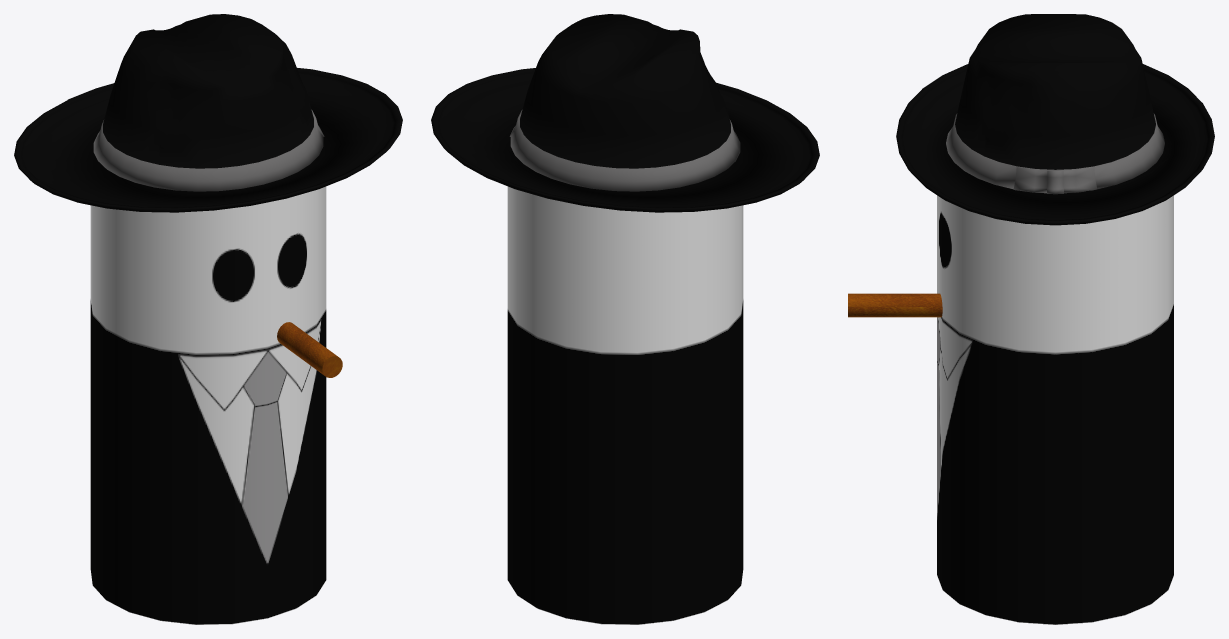
The model's file is soldiersuit.fbx.
3 renders of one model, left to right at view 1: azimuth 30°, elevation 25°; view 2: azimuth 150°, elevation 25°; view 3: azimuth 270°, elevation 25°, orthographic.
Parts seen in each view (by area): view 1: polySurface1, Circle, pCylinder2; view 2: polySurface1, Circle; view 3: polySurface1, Circle, pCylinder2.
Boxes of the visible parts, x1,y1,x2,y2 form: polySurface1: (90,186,326,624); Circle: (14,14,402,212); pCylinder2: (277,322,342,377); polySurface1: (507,132,743,624); Circle: (431,14,819,212); polySurface1: (937,154,1173,624); Circle: (896,14,1214,225); pCylinder2: (848,293,942,317).
Bounding box in the file's own units: 3.46 × 4.95 × 3.09.
Materials: 5 (2 with a texture image).
